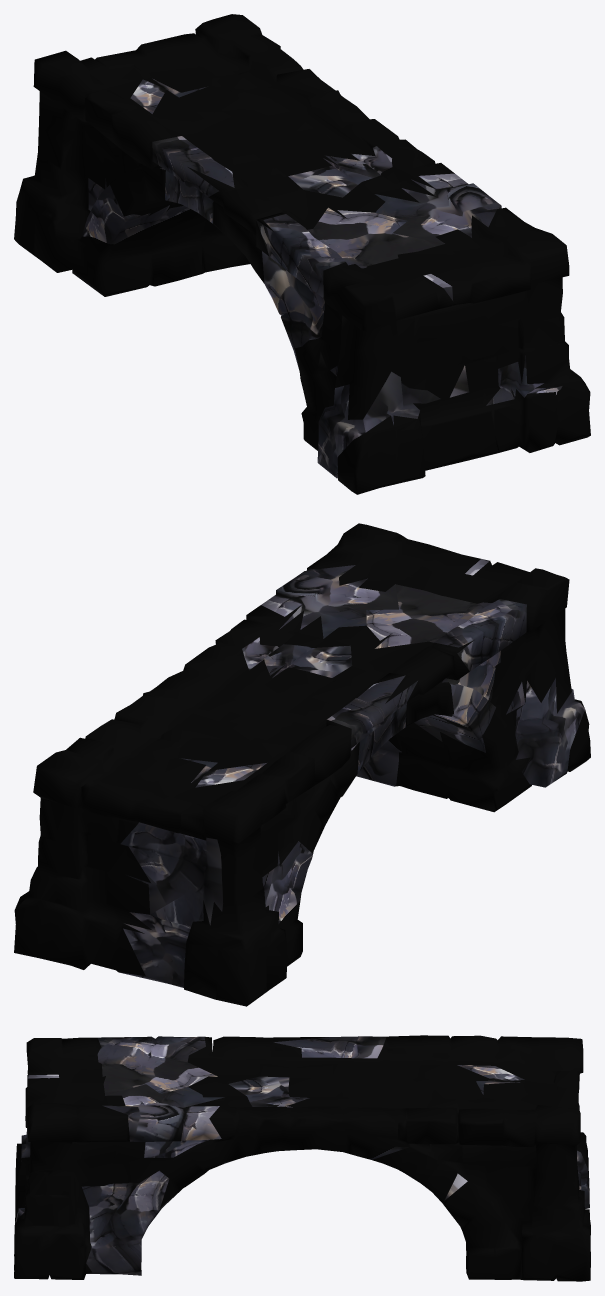
The model's file is RIP0 (2).obj.
3 renders of one model, top to bottom at view 1: azimuth 30°, elevation 25°; view 2: azimuth 150°, elevation 25°; view 3: azimuth 270°, elevation 25°, orthographic. The views are drawn at different scales.
Visible parts, largest first — view 1: RIP0; view 2: RIP0; view 3: RIP0.
Boxes of the visible parts, left/top/right/bottom form: RIP0: left=14, top=14, right=590, bottom=494; RIP0: left=14, top=523, right=590, bottom=1006; RIP0: left=14, top=1035, right=590, bottom=1281.
Size of the model in its own units: 0.3909 by 0.312 by 1.
